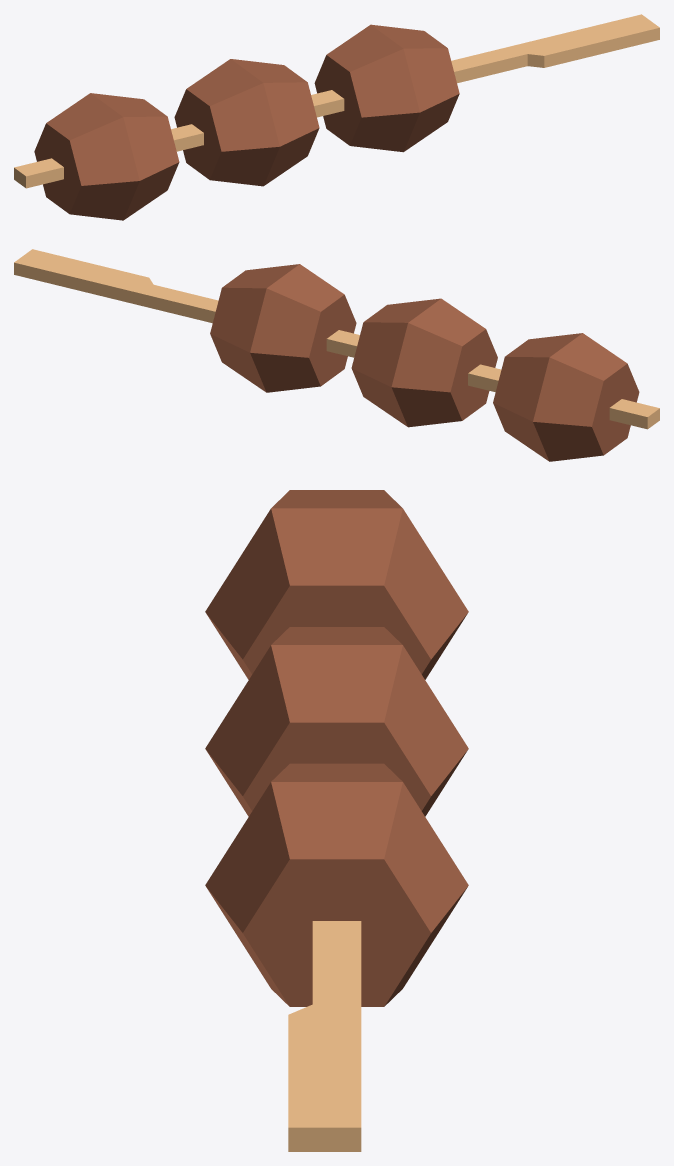
The model's file is skewer.fbx.
The picture shows the model from 3 angles, top to bottom: view 1: azimuth 30°, elevation 25°; view 2: azimuth 150°, elevation 25°; view 3: azimuth 270°, elevation 25°; orthographic projection. The views are drawn at different scales.
Parts seen in each view (by area): view 1: meat (×3), skewer; view 2: meat (×3), skewer; view 3: meat (×3), skewer.
Boxes of the visible parts, <box> form: meat (×3): <box>34,24,459,220</box>; skewer: <box>14,14,659,188</box>; meat (×3): <box>210,264,639,461</box>; skewer: <box>14,249,659,429</box>; meat (×3): <box>205,490,468,1006</box>; skewer: <box>288,921,361,1151</box>.
Bounding box in the file's own units: 5.97 × 0.94 × 1.09.
